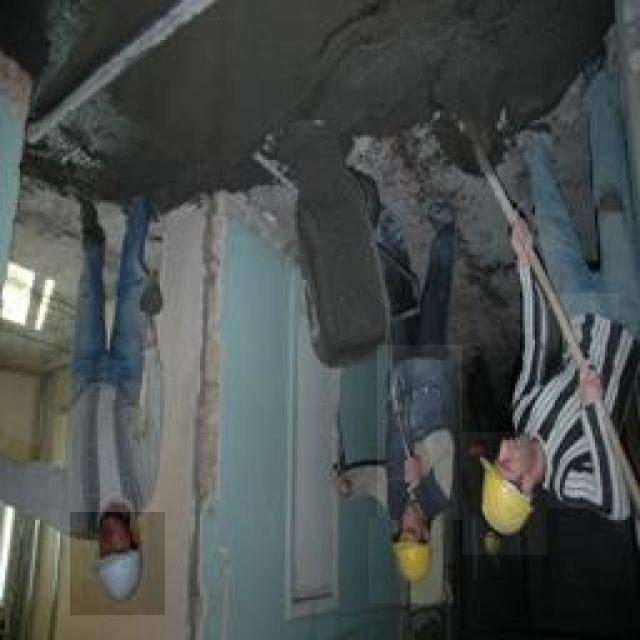Helmet: (48, 362, 160, 546), (536, 294, 618, 508), (377, 345, 462, 520), (462, 432, 547, 555), (70, 512, 165, 615), (368, 518, 454, 604)
